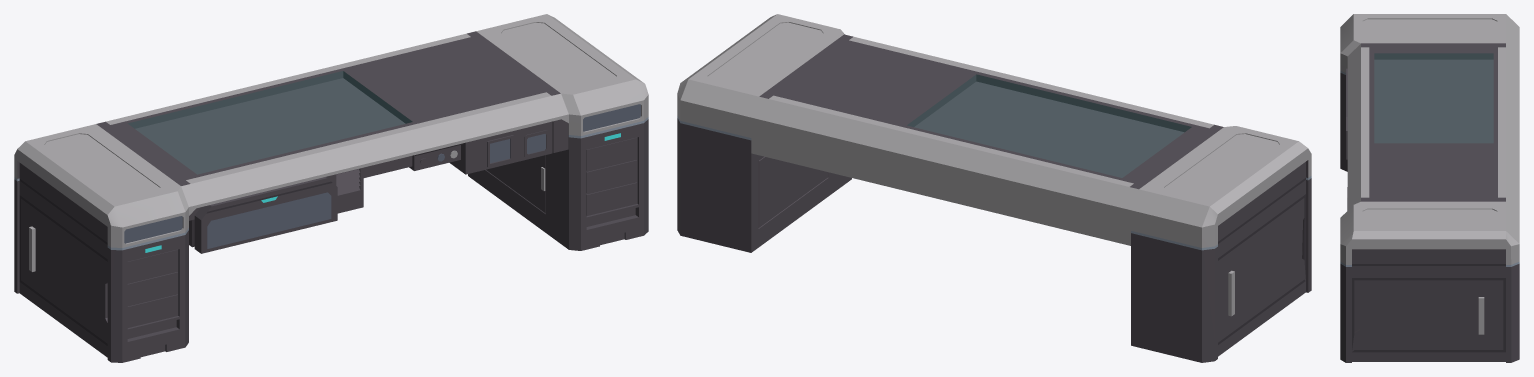
File: SM_Props_Laboratory_05.fbx
3 renders of one model, left to right at view 1: azimuth 30°, elevation 25°; view 2: azimuth 150°, elevation 25°; view 3: azimuth 270°, elevation 25°, orthographic. The views are drawn at different scales.
Parts seen in each view (by area): view 1: SM_Props_Laboratory_05; view 2: SM_Props_Laboratory_05; view 3: SM_Props_Laboratory_05.
Boxes of the visible parts, left/top/right/bottom form: SM_Props_Laboratory_05: left=14, top=14, right=648, bottom=362; SM_Props_Laboratory_05: left=677, top=14, right=1311, bottom=362; SM_Props_Laboratory_05: left=1340, top=14, right=1519, bottom=362.
Size of the model in its own units: 3 by 0.8 by 1.01.
